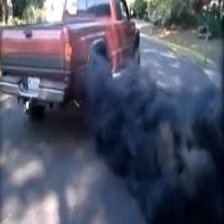smoke: (95, 73, 220, 213)
